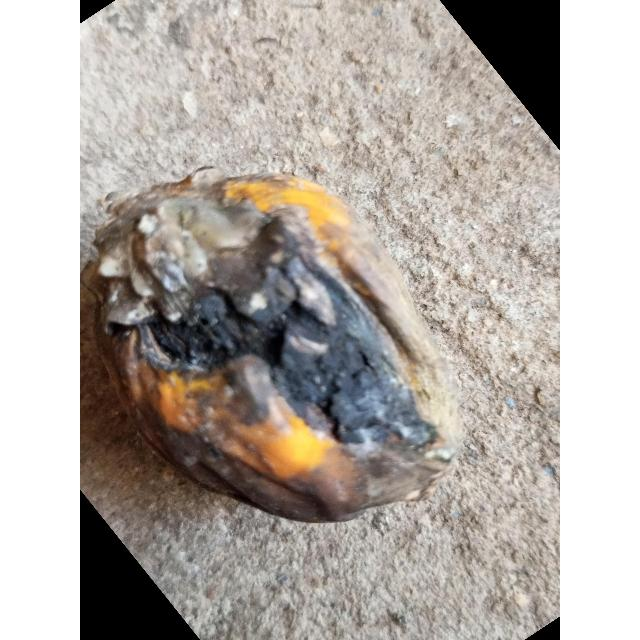damaged: (82, 166, 465, 527)
